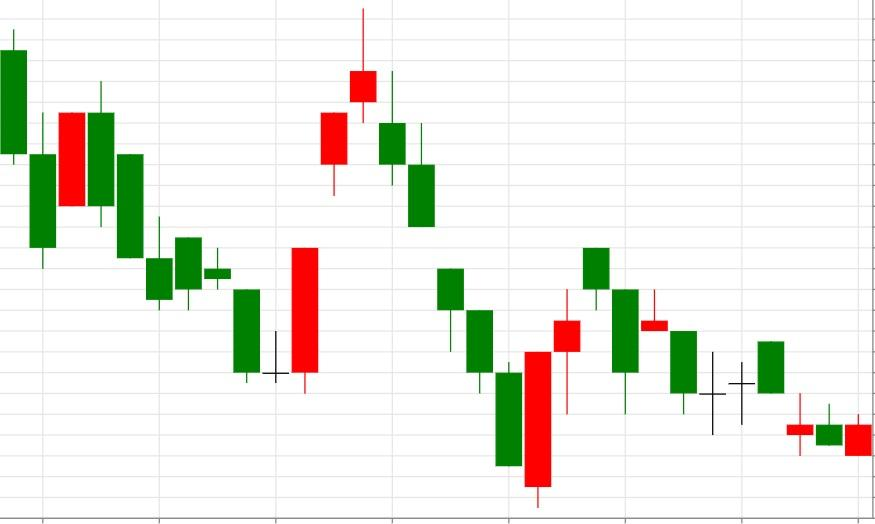morning_star_rise: (86, 80, 320, 394)
